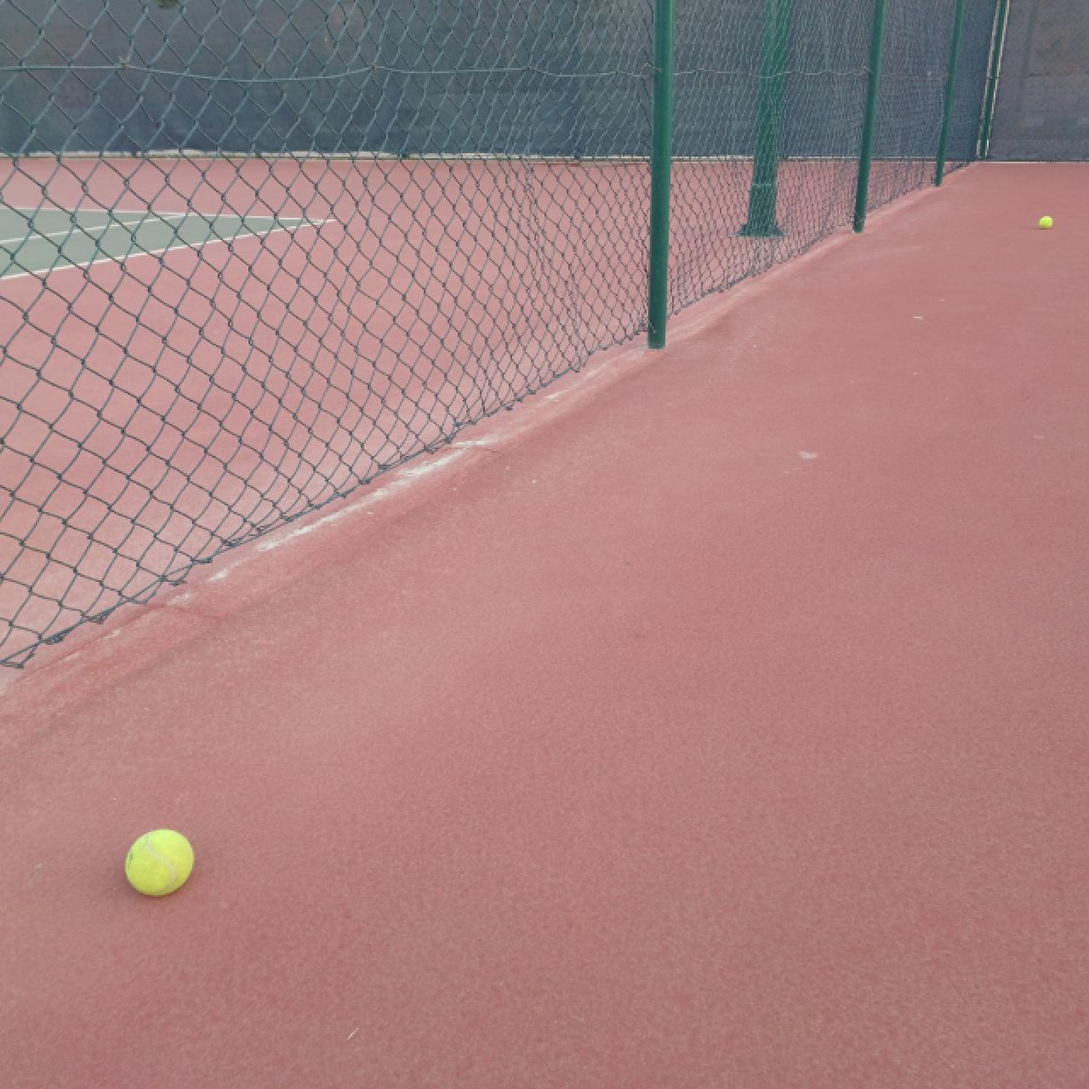tennis-ball: (123, 828, 197, 897), (1038, 215, 1054, 229)
